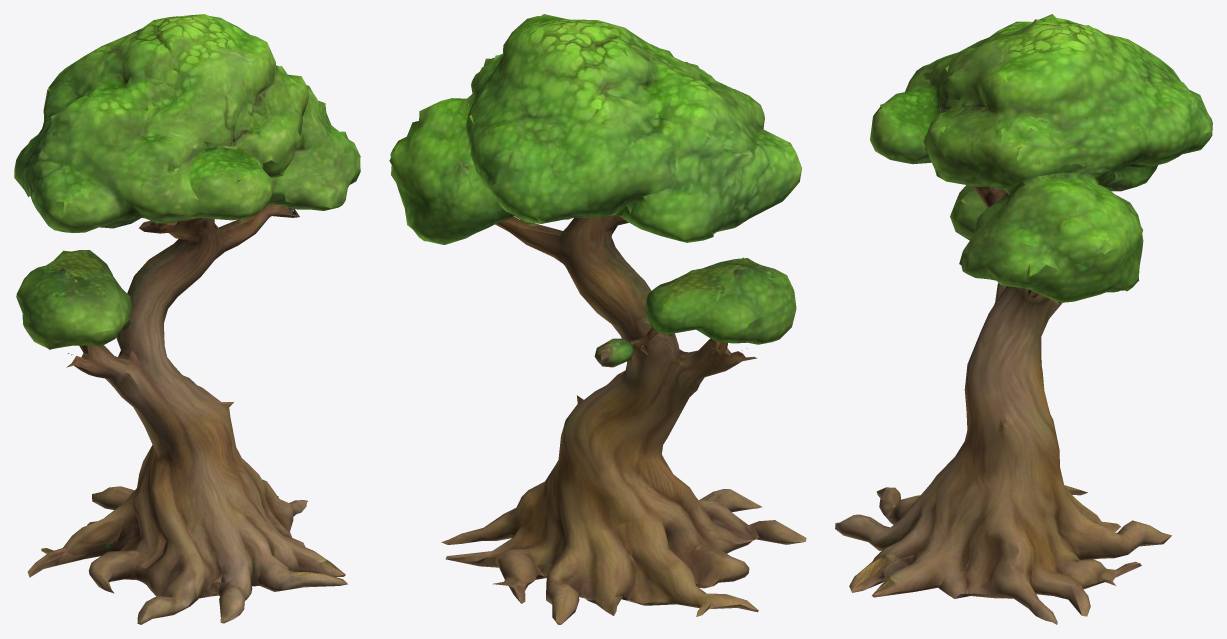
The model's file is tree_old_twisted_lod0.glb.
3 views of the same model, side by side, from view 1: azimuth 30°, elevation 25°; view 2: azimuth 150°, elevation 25°; view 3: azimuth 270°, elevation 25° (orthographic). The views are drawn at different scales.
Parts seen in each view (by area): view 1: tree_old_twisted_lod0; view 2: tree_old_twisted_lod0; view 3: tree_old_twisted_lod0.
Part boxes in pixels (x1,y1,x2,y2): tree_old_twisted_lod0: (14, 14, 360, 624); tree_old_twisted_lod0: (389, 14, 806, 624); tree_old_twisted_lod0: (835, 14, 1212, 624).
Size of the model in its own units: 4.81 by 6.99 by 4.46.
1 material, 1 textured.
